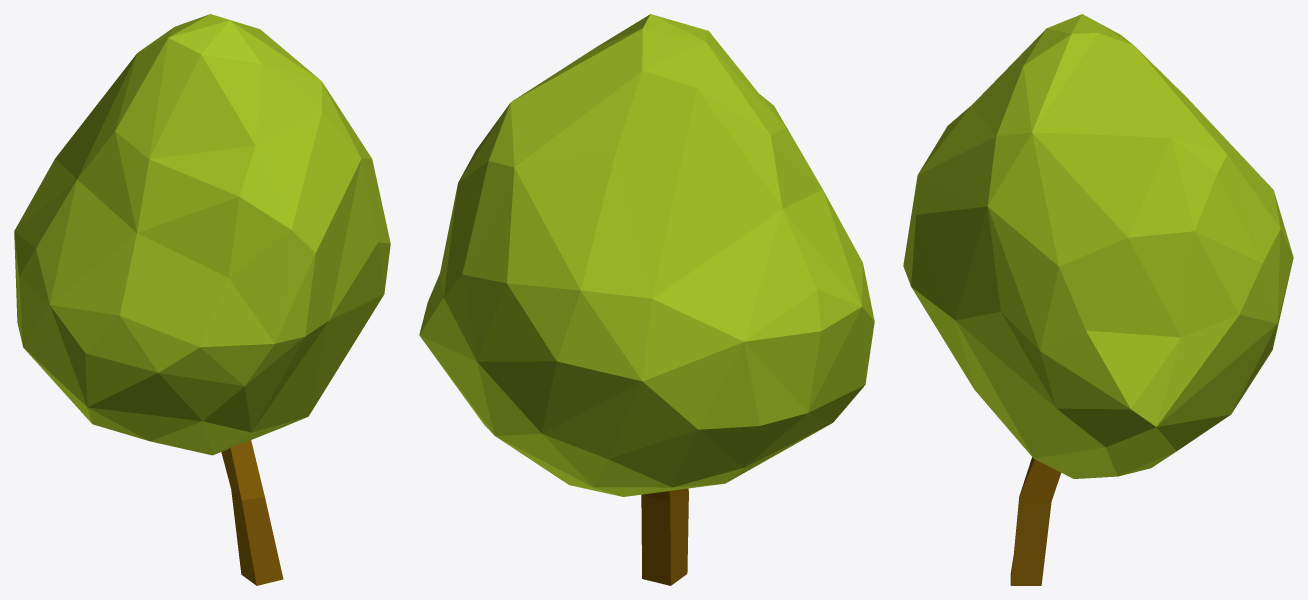
Rendered from Tree2.fbx.
3 renders of one model, left to right at view 1: azimuth 30°, elevation 25°; view 2: azimuth 150°, elevation 25°; view 3: azimuth 270°, elevation 25°, orthographic. The views are drawn at different scales.
Parts seen in each view (by area): view 1: Cube.045; view 2: Cube.045; view 3: Cube.045.
Part boxes in pixels (x1,y1,x2,y2): Cube.045: (14, 14, 390, 585); Cube.045: (419, 14, 874, 585); Cube.045: (903, 14, 1293, 585).
Size of the model in its own units: 205 by 290 by 190.
